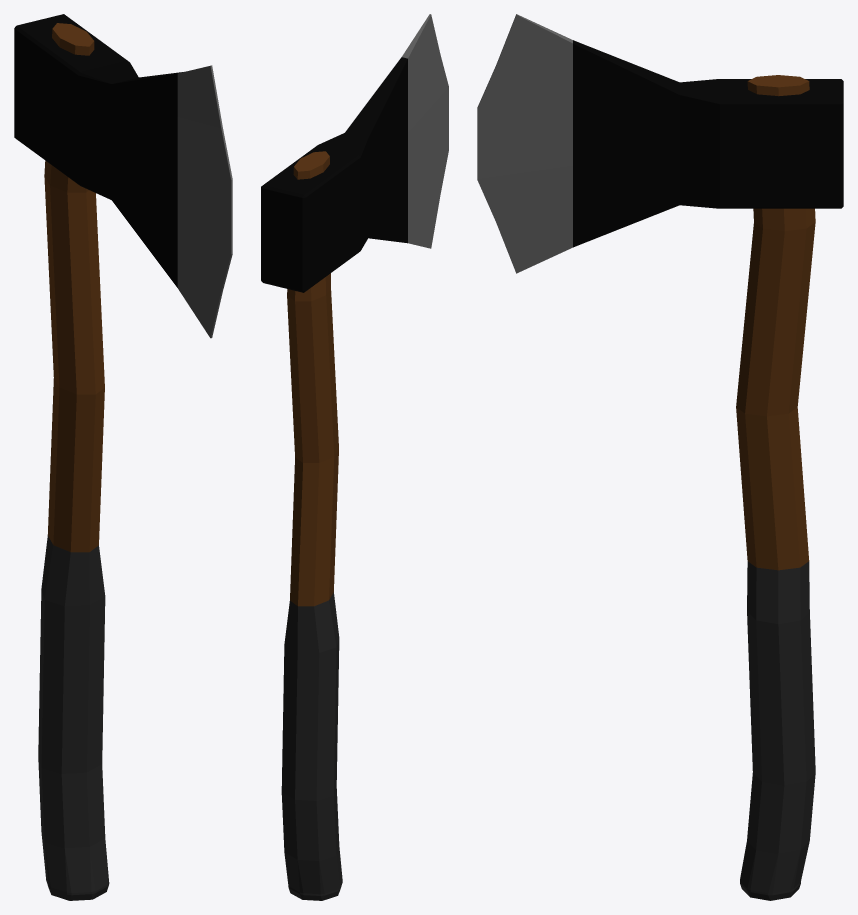
Rendered from Machado.fbx.
3 views of the same model, side by side, from view 1: azimuth 30°, elevation 25°; view 2: azimuth 150°, elevation 25°; view 3: azimuth 270°, elevation 25° (orthographic). The views are drawn at different scales.
Parts seen in each view (by area): view 1: Circle, Cube; view 2: Circle, Cube; view 3: Cube, Circle.
Part boxes in pixels (x1,y1,x2,y2): Circle: (38,23,109,900); Cube: (14,14,232,338); Circle: (281,151,342,900); Cube: (261,14,448,292); Cube: (477,14,843,273); Circle: (736,75,815,900).
Size of the model in its own units: 27.6 by 424 by 161.
